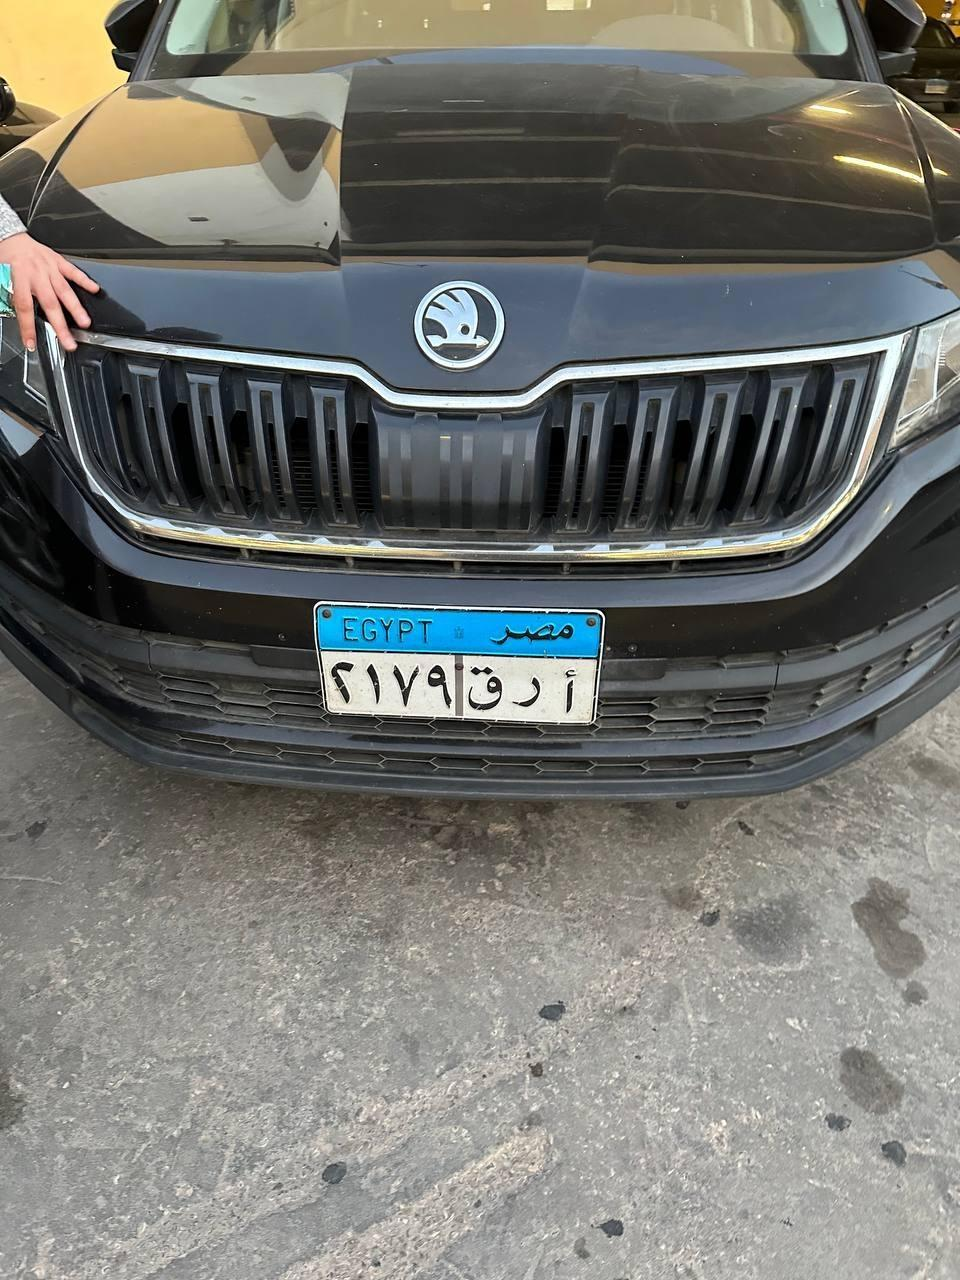1: (362, 656, 389, 702)
2: (330, 659, 358, 708)
7: (392, 654, 422, 704)
9: (420, 669, 461, 707)
License Plate: (311, 599, 605, 728)
Q: (467, 662, 504, 719)
R: (512, 670, 548, 714)
alef: (562, 664, 578, 718)
